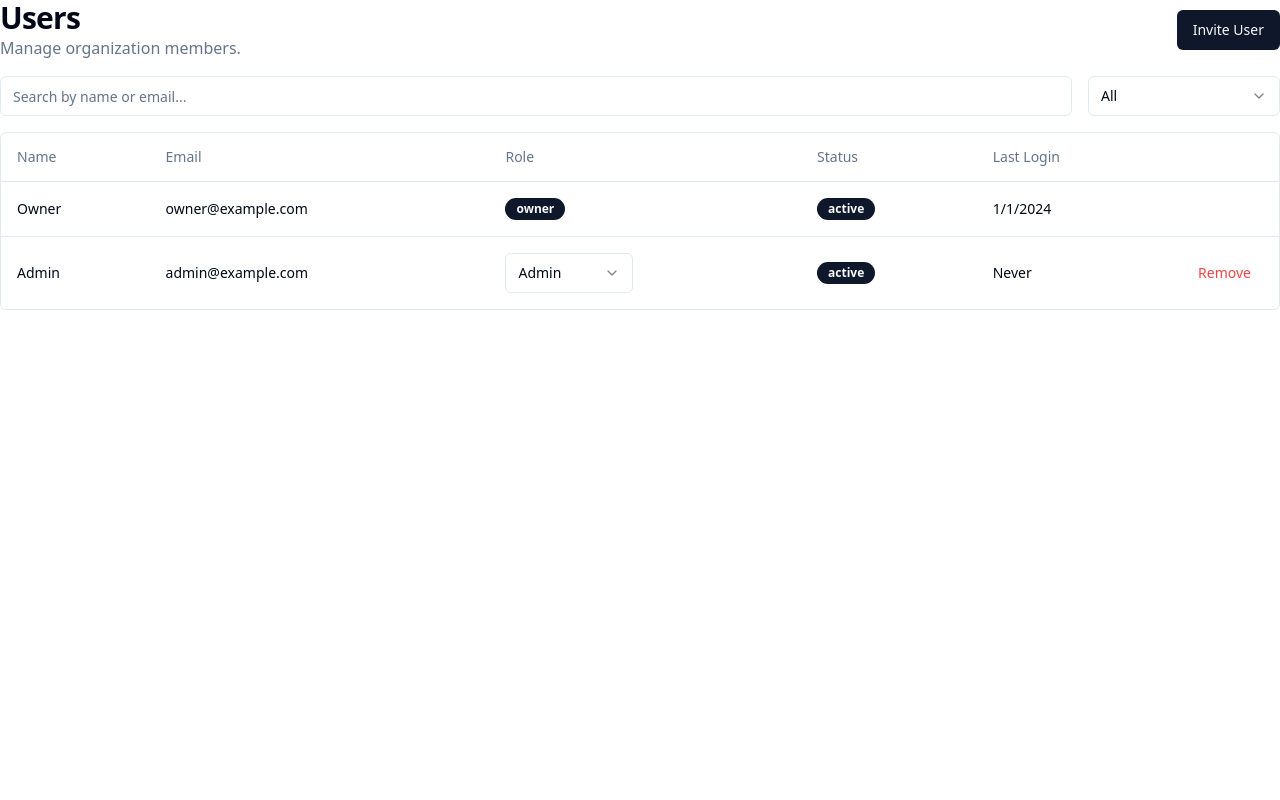
Test: UsersPage › opens invite modal on button click
Expected: the text "Owner" is shown, [1,181,150,236]
Click the button "Invite User" at (1228, 30), box [1177,10,1279,50]
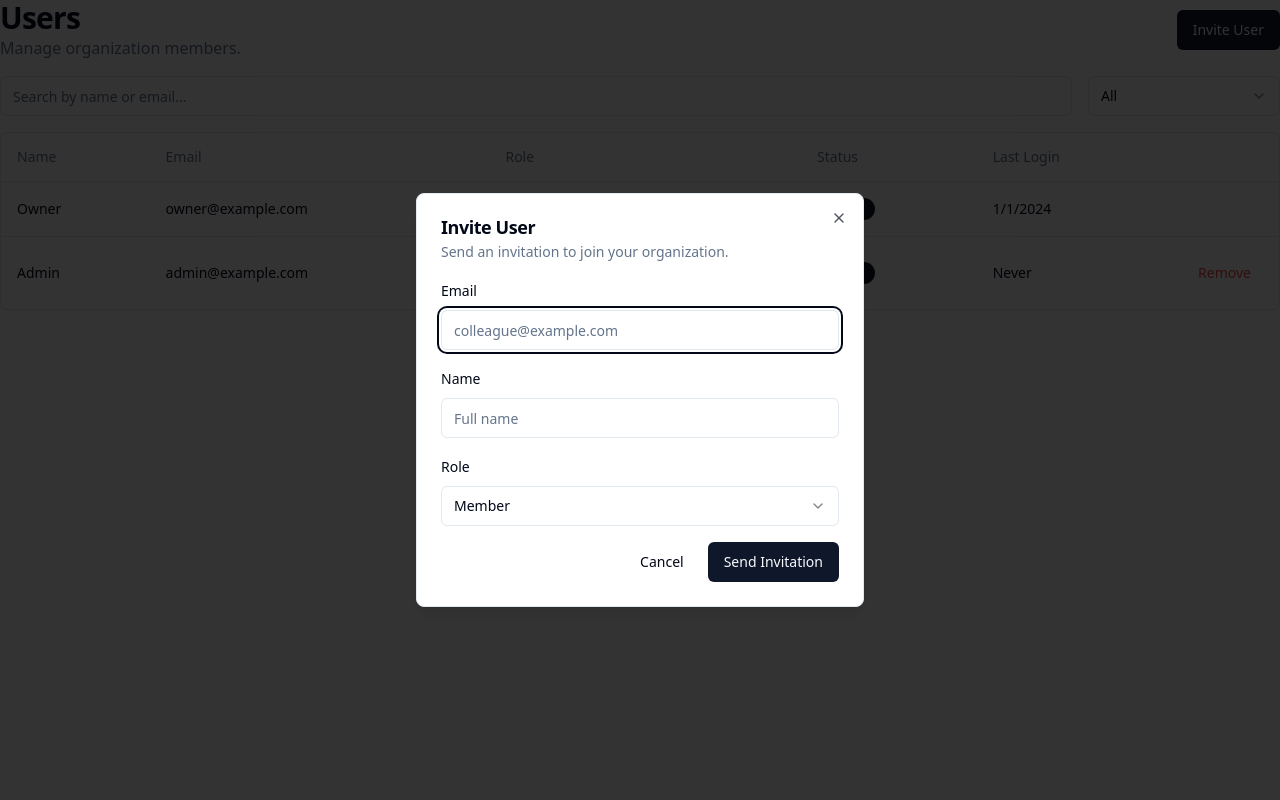
Result: the dialog is shown at [416,193,864,607]
Result: the heading "Invite User" is shown at [441,215,535,239]
